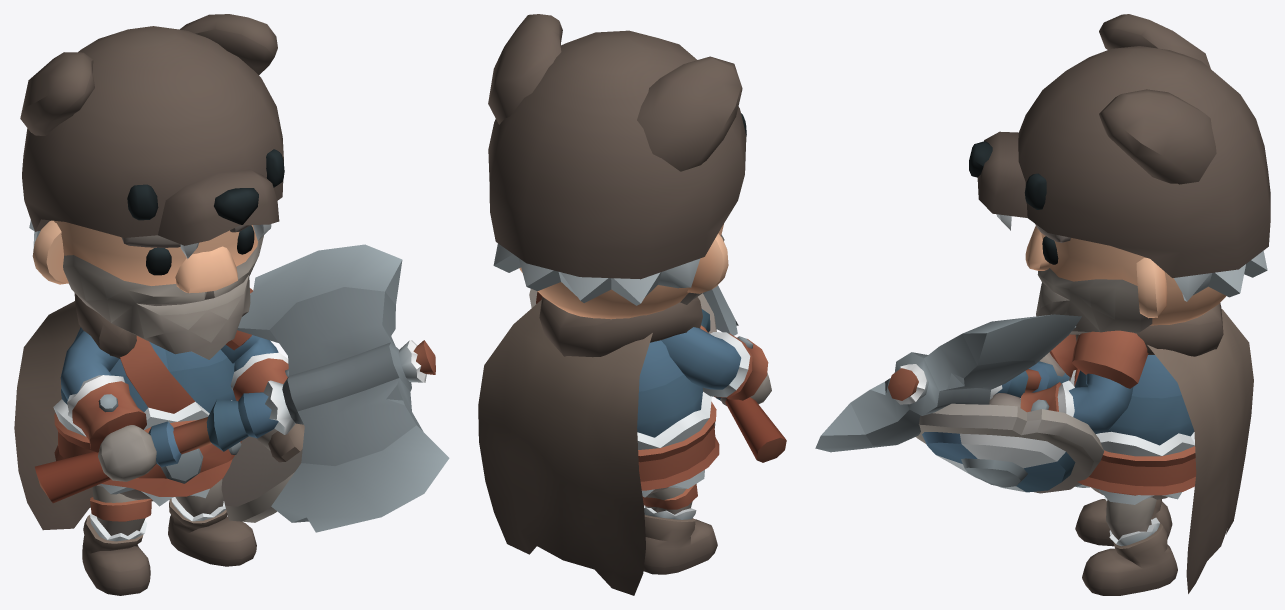
The model's file is BarbarianLicensed.fbx.
The picture shows the model from 3 angles, left to right: view 1: azimuth 30°, elevation 25°; view 2: azimuth 150°, elevation 25°; view 3: azimuth 270°, elevation 25°; orthographic projection. The views are drawn at different scales.
Parts seen in each view (by area): view 1: BarbarianLicensed; view 2: BarbarianLicensed; view 3: BarbarianLicensed.
Part boxes in pixels (x1,y1,x2,y2): BarbarianLicensed: (14, 14, 449, 595); BarbarianLicensed: (478, 14, 786, 595); BarbarianLicensed: (815, 14, 1270, 595).
Size of the model in its own units: 1.46 by 2.36 by 1.93.
